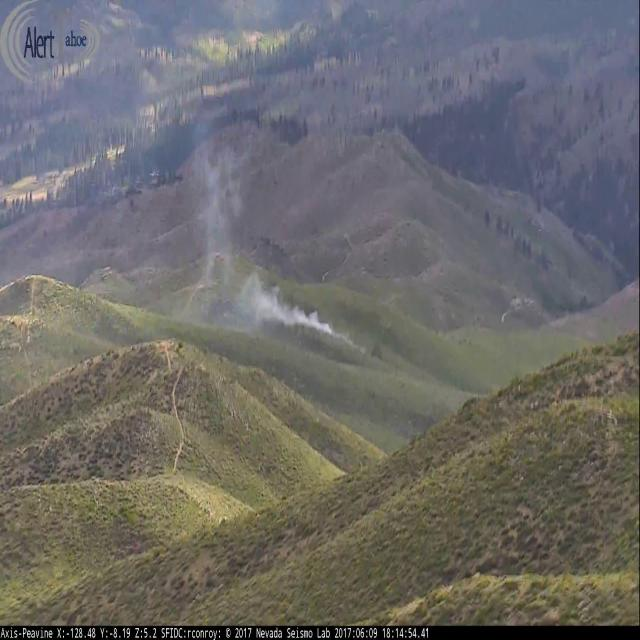smoke: (167, 120, 366, 356)
